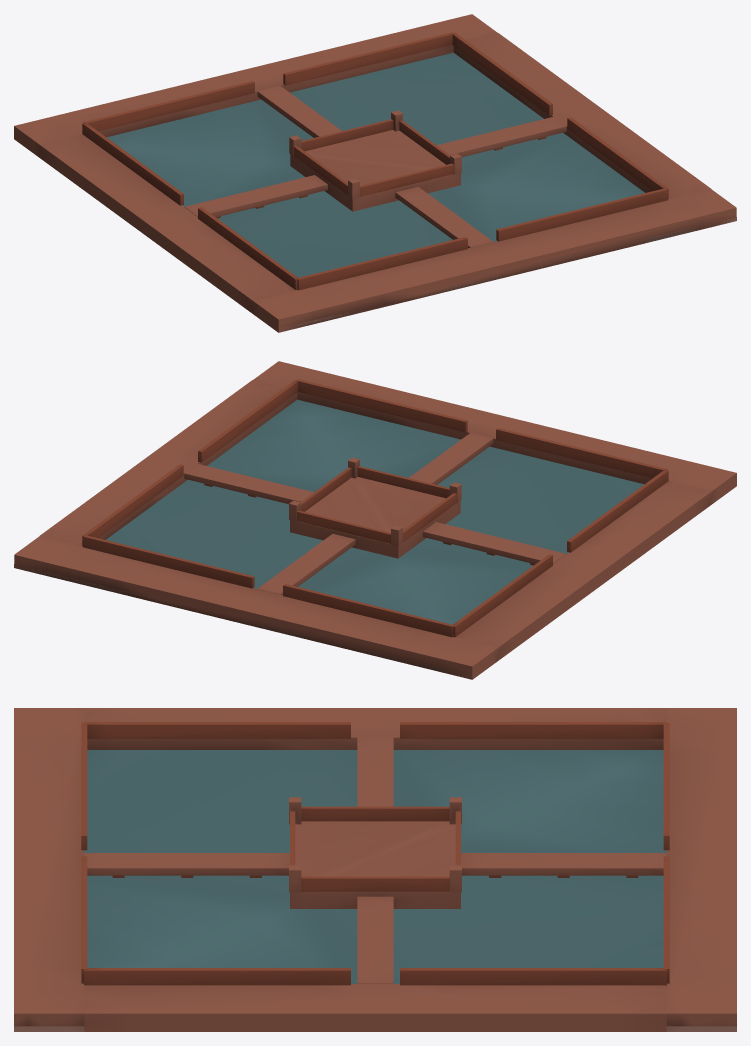
The model's file is anup-talao.glb.
3 renders of one model, top to bottom at view 1: azimuth 30°, elevation 25°; view 2: azimuth 150°, elevation 25°; view 3: azimuth 270°, elevation 25°, orthographic. The views are drawn at different scales.
Parts seen in each view (by area): view 1: p0_tank, p1_platform and causeways; view 2: p0_tank, p1_platform and causeways; view 3: p0_tank, p1_platform and causeways.
Boxes of the visible parts, <box> form: p0_tank: <box>14,14,736,332</box>; p1_platform and causeways: <box>82,32,668,290</box>; p0_tank: <box>14,361,736,679</box>; p1_platform and causeways: <box>82,379,668,637</box>; p0_tank: <box>14,708,736,1031</box>; p1_platform and causeways: <box>81,722,669,985</box>.
Bounding box in the file's own units: 36.03 × 2.5 × 36.
